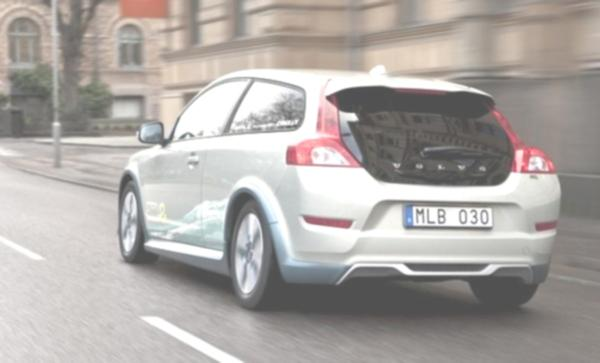volvo: (380, 155, 501, 179)
